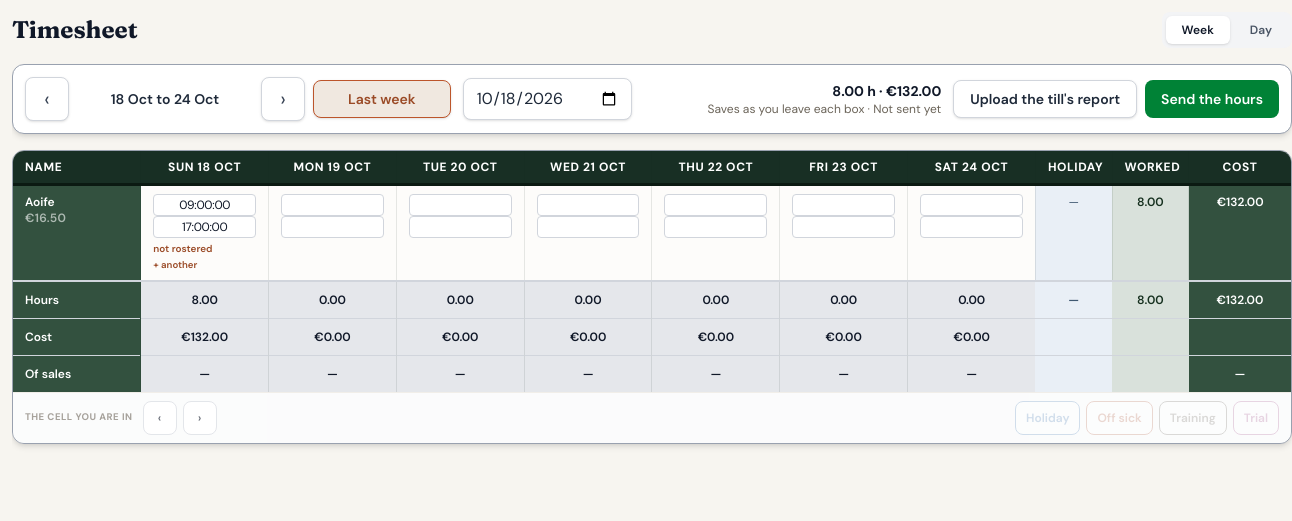
Test: saying that it saved › says nothing about saving when the write was refused, and puts the figure back
Replace the text in the 1st field named "Clock in" with "0920" at [205, 205], box [153,194,256,216]
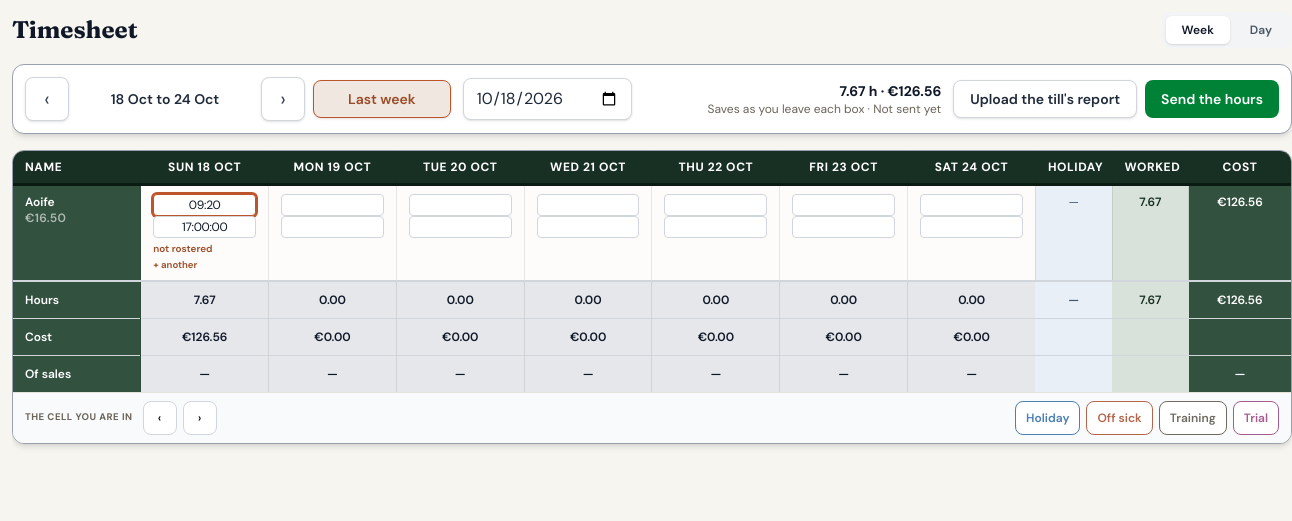
Press Tab
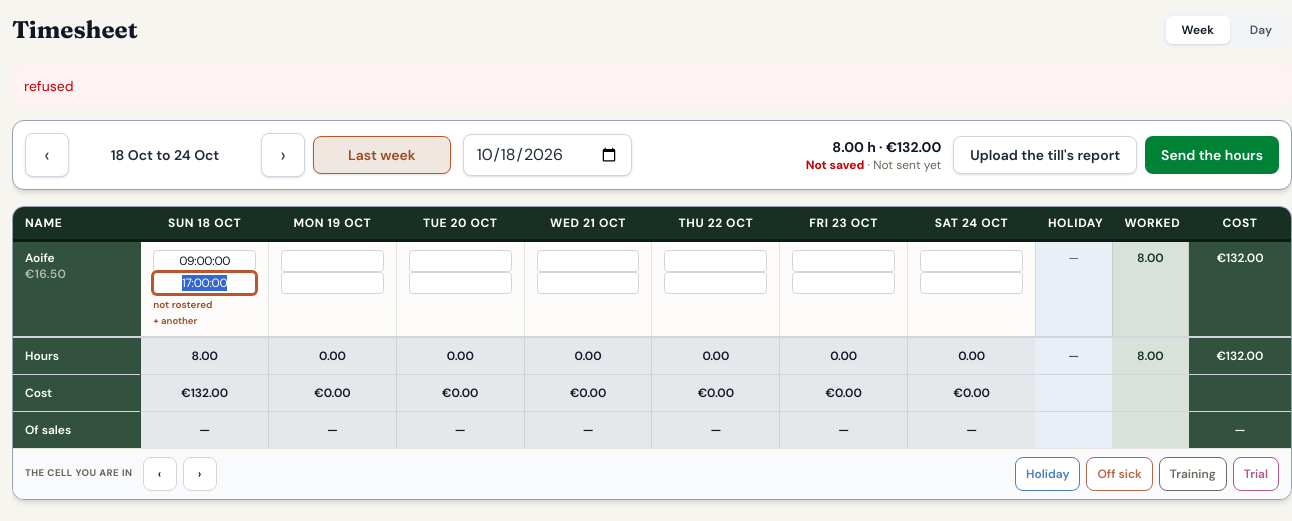
Result: the 1st field named "Clock in" holds "09:00:00" at [153,250,256,272]
Result: the text "Not saved" is shown at [806,157,864,173]
